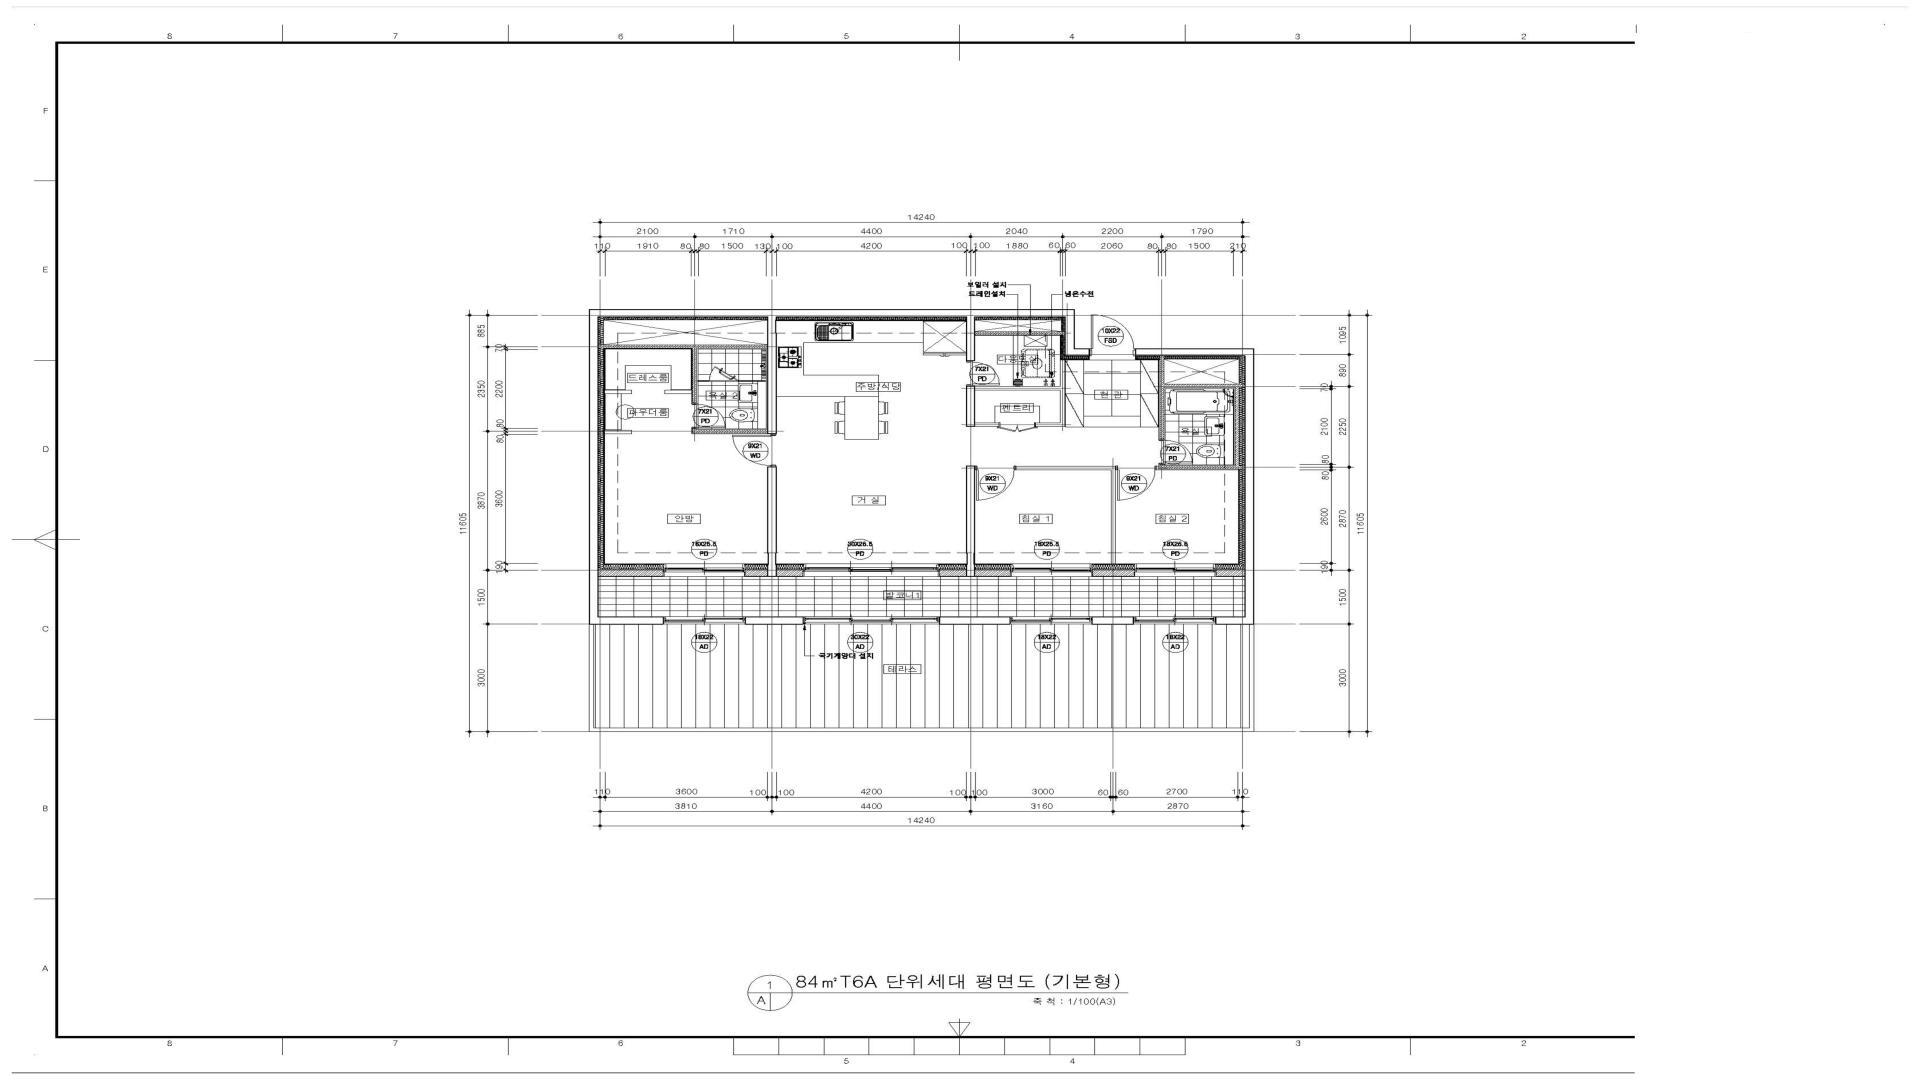door: (1089, 315, 1135, 356), (732, 434, 777, 467), (1116, 465, 1156, 500), (975, 465, 1015, 500), (691, 404, 727, 429), (1158, 439, 1193, 464), (967, 361, 1000, 386), (1000, 422, 1036, 431)
wall: (588, 309, 1089, 625), (1135, 348, 1254, 625), (1156, 356, 1245, 471), (599, 344, 767, 404), (1015, 465, 1116, 564), (939, 465, 1010, 578), (965, 360, 1065, 427), (745, 467, 804, 576), (939, 616, 1010, 625), (745, 616, 803, 625), (599, 568, 663, 576), (975, 331, 1064, 336), (691, 429, 767, 434), (1092, 616, 1134, 625), (1092, 568, 1134, 576), (1216, 568, 1245, 576), (605, 430, 632, 434), (605, 390, 632, 394)
window: (804, 563, 939, 576), (803, 616, 939, 625), (1010, 563, 1092, 578), (662, 563, 745, 576), (1134, 563, 1216, 576), (1010, 616, 1092, 625), (663, 616, 745, 625), (1134, 617, 1216, 625)
